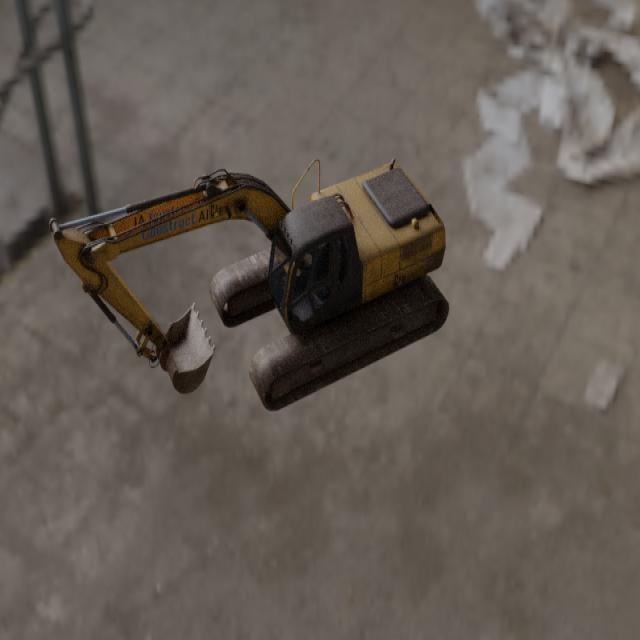excavator: (48, 156, 449, 411)
